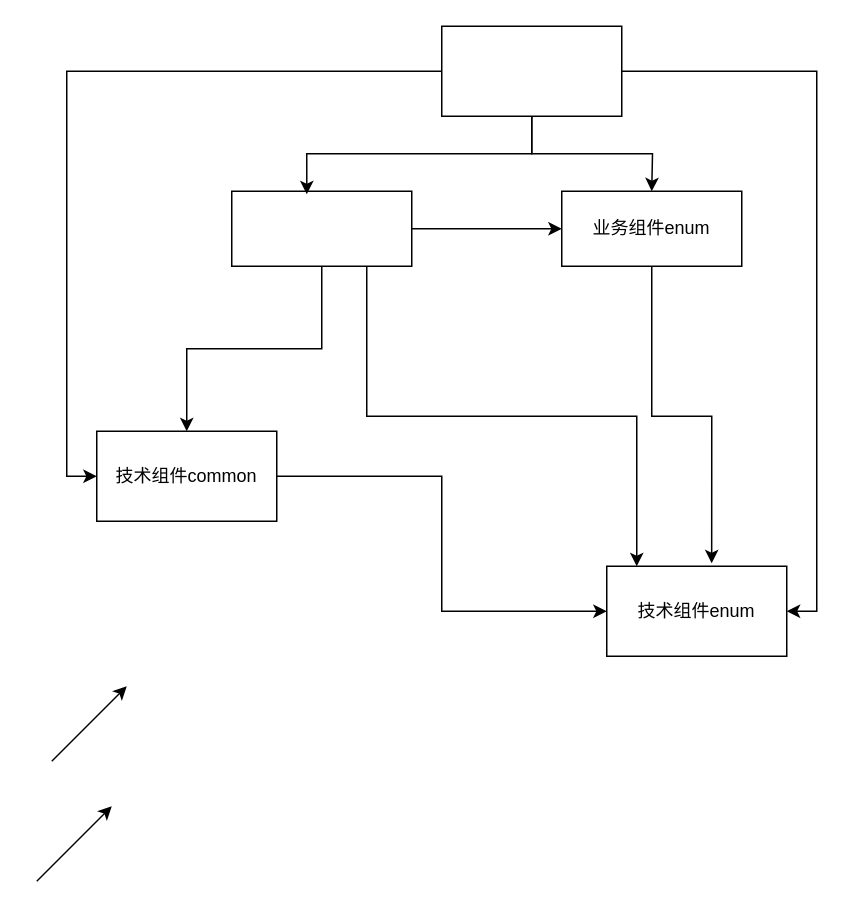
This 855x920 diagram has some shape labels left out. Each missing label, with the centre of its shape:
"业务系统" goes at (531,70).
"业务组件common" goes at (321,228).
